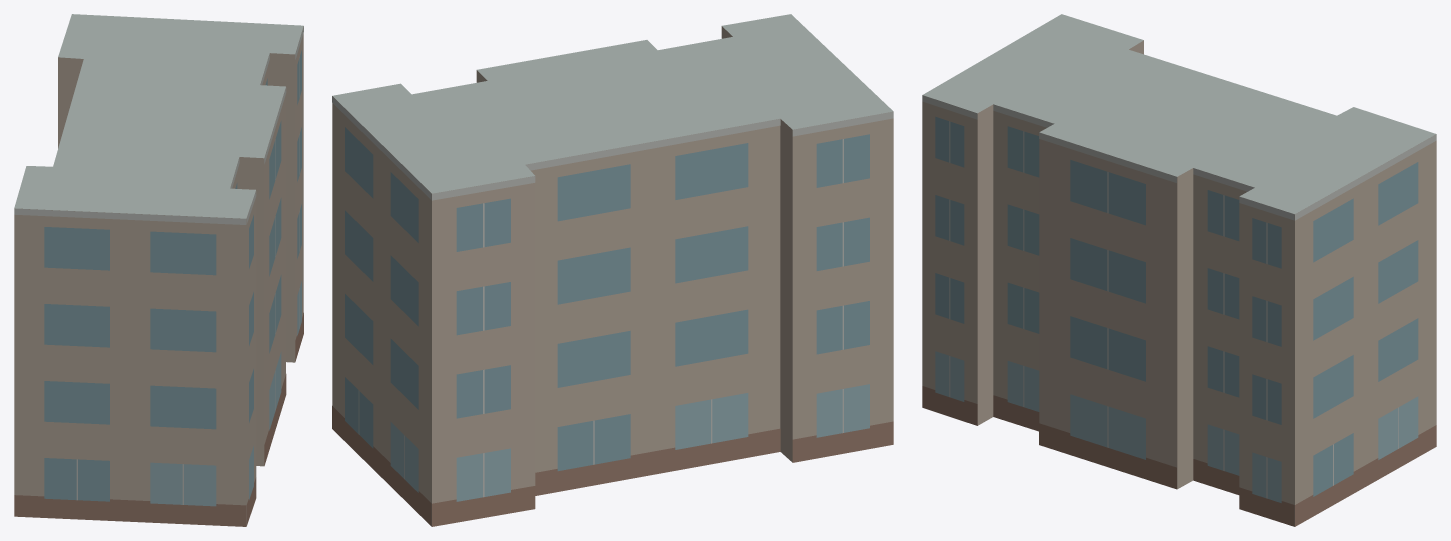
File: survey-upis-32987368.glb
3 views of the same model, side by side, from view 1: azimuth 30°, elevation 25°; view 2: azimuth 150°, elevation 25°; view 3: azimuth 270°, elevation 25° (orthographic). The views are drawn at different scales.
Parts seen in each view (by area): view 1: survey-upis-32987368.tmp; view 2: survey-upis-32987368.tmp; view 3: survey-upis-32987368.tmp.
Part boxes in pixels (x1=…): survey-upis-32987368.tmp: x1=14, y1=14, x2=303, y2=526; survey-upis-32987368.tmp: x1=332, y1=14, x2=893, y2=526; survey-upis-32987368.tmp: x1=922, y1=14, x2=1436, y2=526.
Size of the model in its own units: 16.22 by 11.8 by 17.6.
